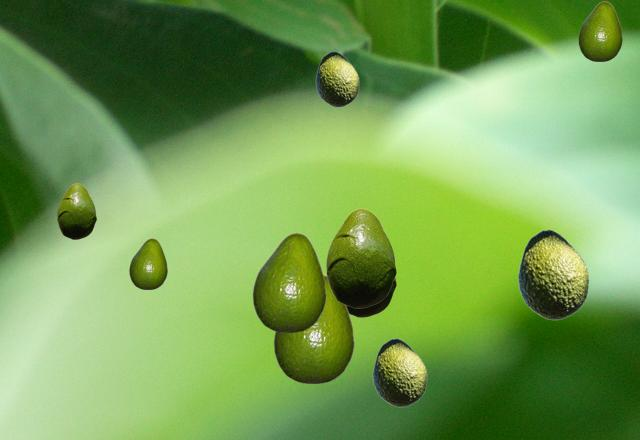avocado: (273, 274, 353, 382), (252, 232, 325, 331), (326, 208, 395, 307), (517, 229, 588, 319), (372, 338, 426, 406), (578, 1, 621, 60), (315, 51, 358, 106), (57, 183, 95, 238), (129, 238, 166, 288), (348, 279, 395, 316)
